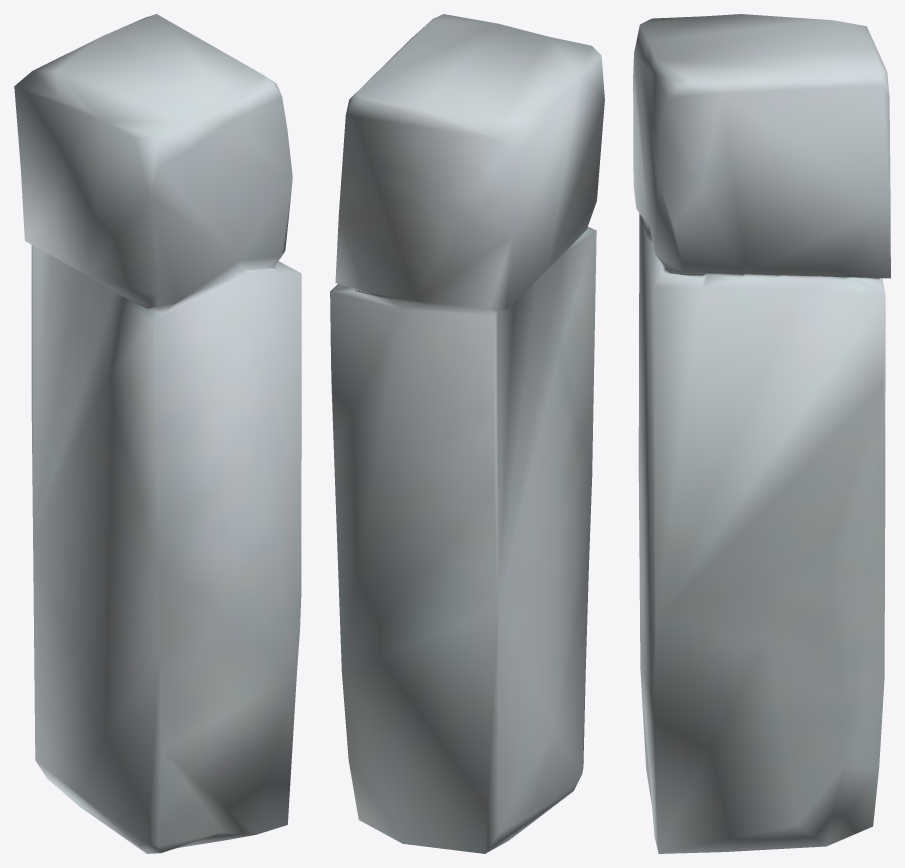
The model's file is P_CubicCliffPiece08.obj.
3 views of the same model, side by side, from view 1: azimuth 30°, elevation 25°; view 2: azimuth 150°, elevation 25°; view 3: azimuth 270°, elevation 25° (orthographic). The views are drawn at different scales.
Bounding box in the file's own units: 5.36 × 20.14 × 6.11.
